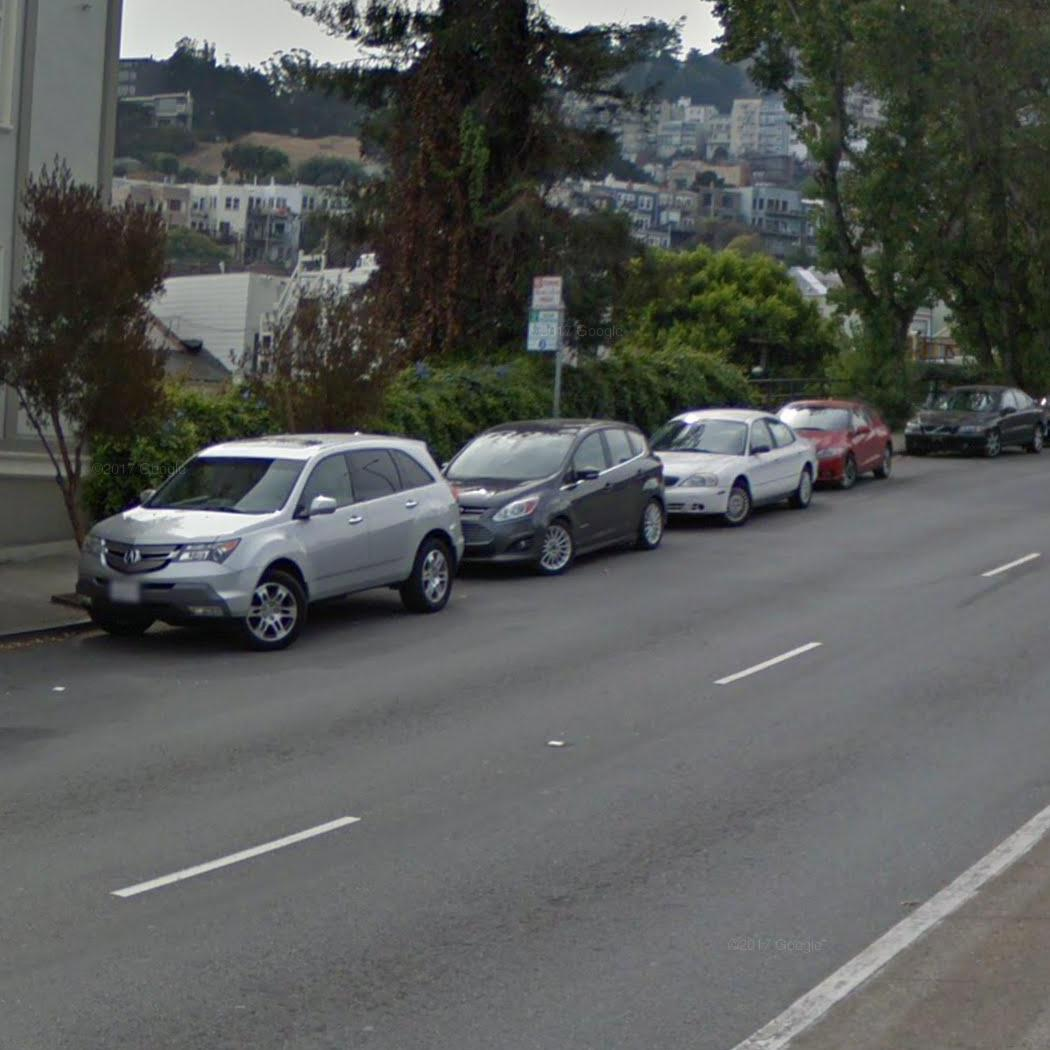1 Hour Parking: (526, 308, 561, 354)
No Parking: (531, 275, 564, 310)
